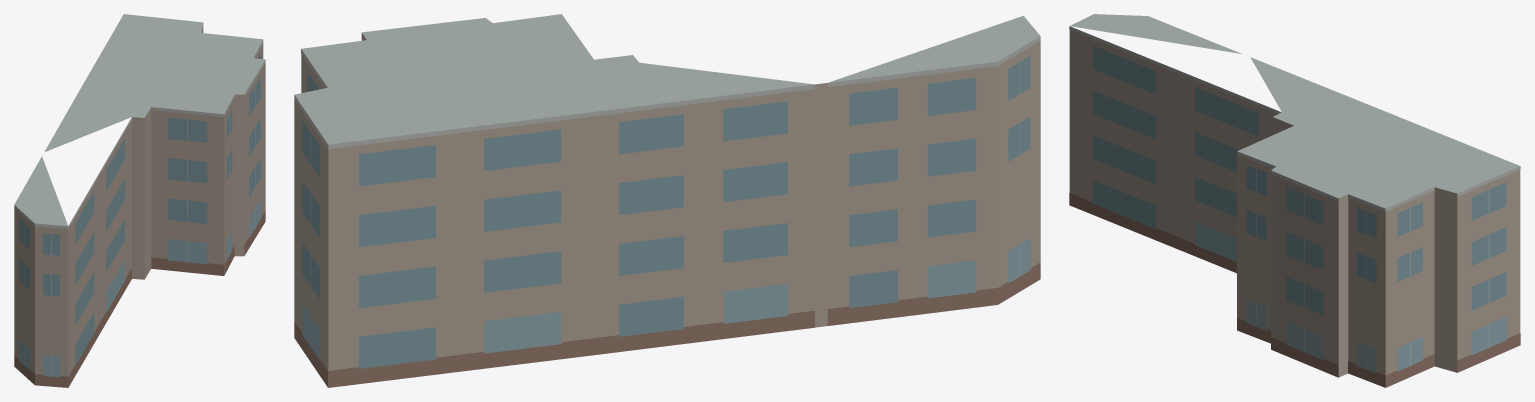
Rendered from survey-upis-32804186.glb.
3 views of the same model, side by side, from view 1: azimuth 30°, elevation 25°; view 2: azimuth 150°, elevation 25°; view 3: azimuth 270°, elevation 25° (orthographic). The views are drawn at different scales.
Parts seen in each view (by area): view 1: survey-upis-32804186.tmp; view 2: survey-upis-32804186.tmp; view 3: survey-upis-32804186.tmp.
Boxes of the visible parts, left/top/right/bottom form: survey-upis-32804186.tmp: left=14, top=14, right=265, bottom=387; survey-upis-32804186.tmp: left=294, top=14, right=1040, bottom=387; survey-upis-32804186.tmp: left=1069, top=14, right=1520, bottom=387.
Size of the model in its own units: 30.06 by 12.9 by 29.42.
